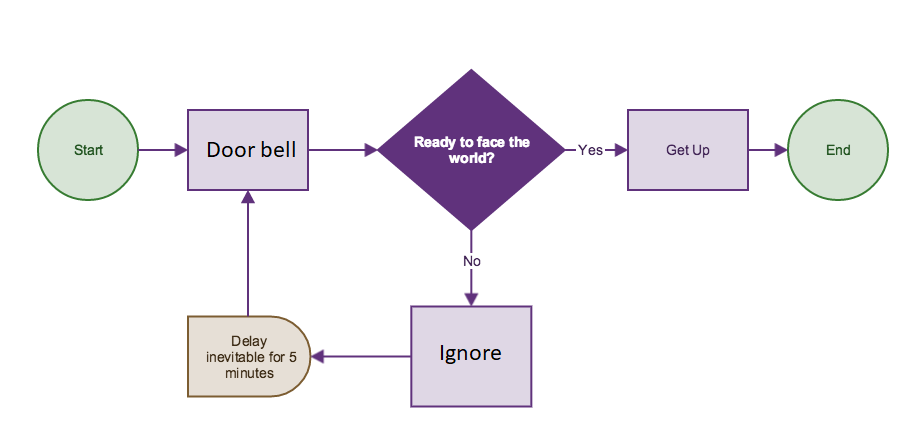arrow: (205, 333, 299, 381), (411, 135, 538, 168), (238, 189, 258, 317), (204, 139, 298, 160), (308, 348, 413, 366), (439, 342, 504, 367), (463, 226, 481, 309), (305, 141, 378, 158), (136, 141, 191, 160), (564, 142, 627, 158), (664, 142, 712, 160), (747, 142, 787, 159), (577, 142, 606, 160), (72, 141, 104, 157), (824, 143, 855, 157), (460, 252, 484, 269)
connection: (33, 97, 143, 204), (786, 97, 893, 205)
decision: (373, 68, 570, 234)
process: (409, 302, 536, 409), (185, 313, 315, 399), (184, 106, 312, 193), (625, 107, 753, 194)
